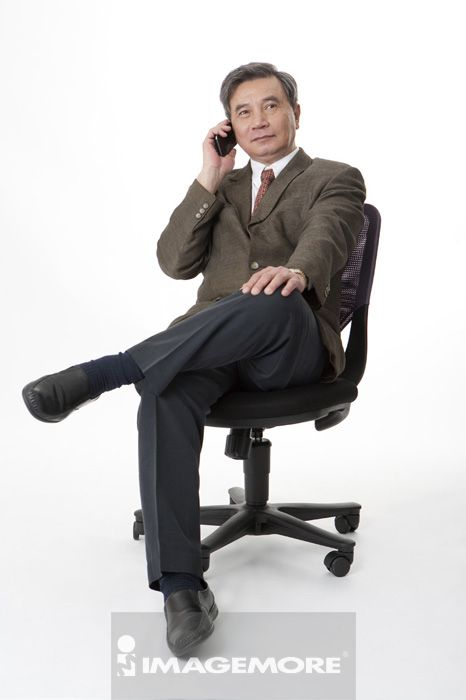talk: (200, 88, 288, 182)
